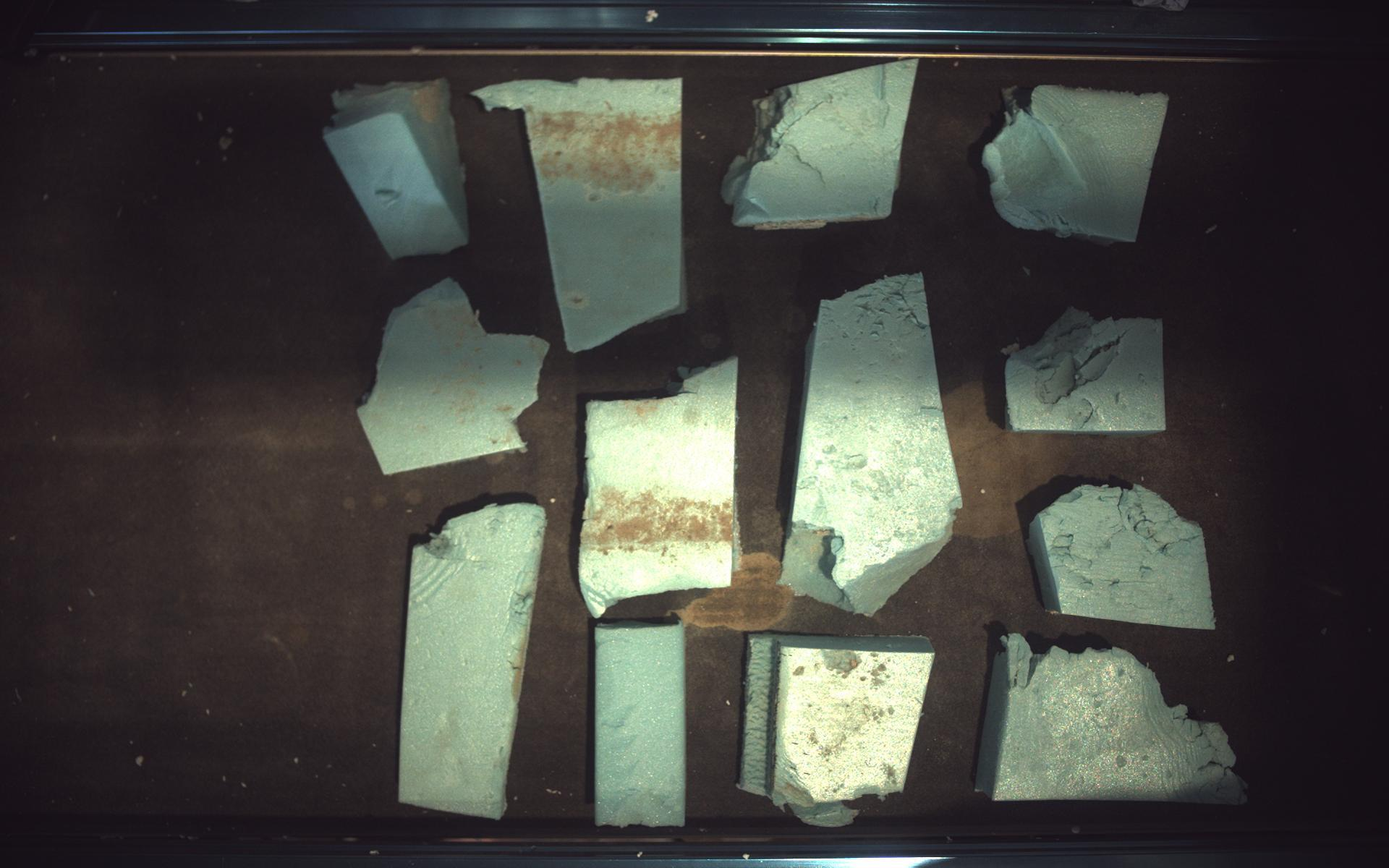foam: (782, 273, 964, 616), (475, 77, 684, 351), (399, 503, 547, 820), (980, 634, 1249, 806), (579, 357, 741, 618), (740, 634, 936, 828), (357, 278, 549, 475), (723, 58, 919, 228), (984, 84, 1170, 241), (323, 77, 468, 258), (1007, 307, 1168, 433), (595, 624, 686, 828)
